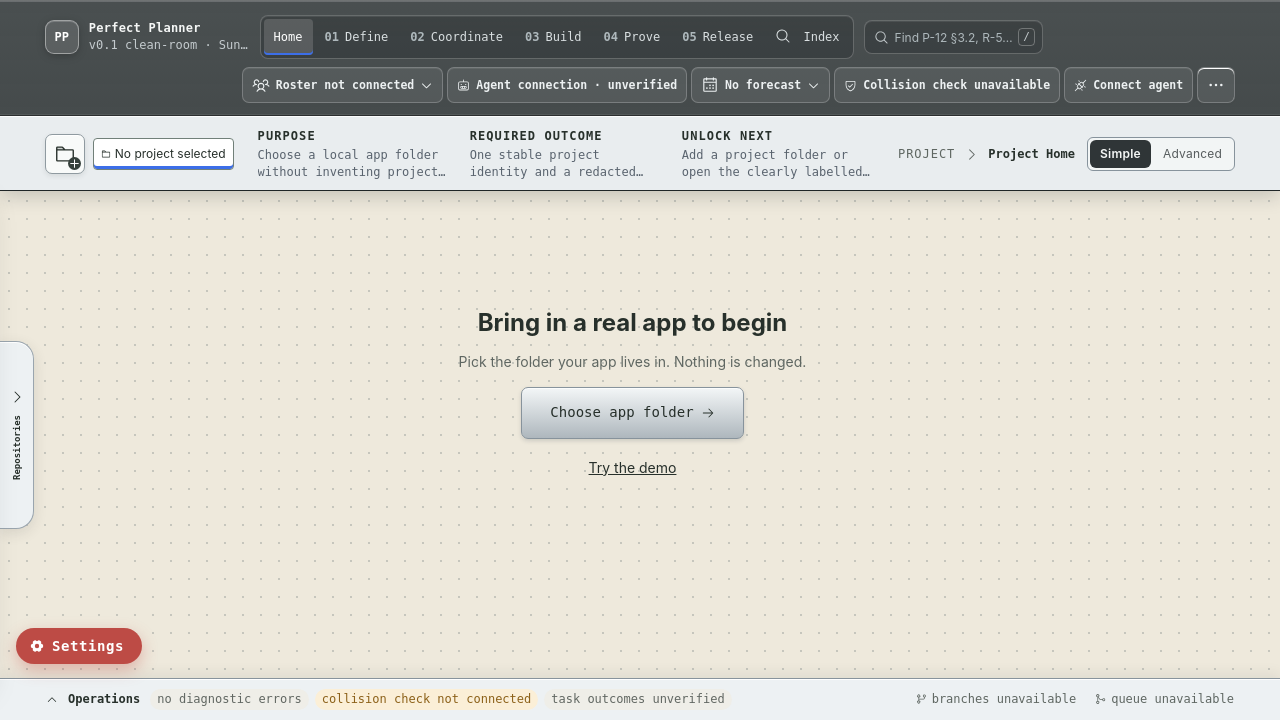
Scenario: Operations shows newest events first even when an older event arrives later
Click the button with class "ops-handle" at x=640, y=700, box [0, 679, 1279, 719]
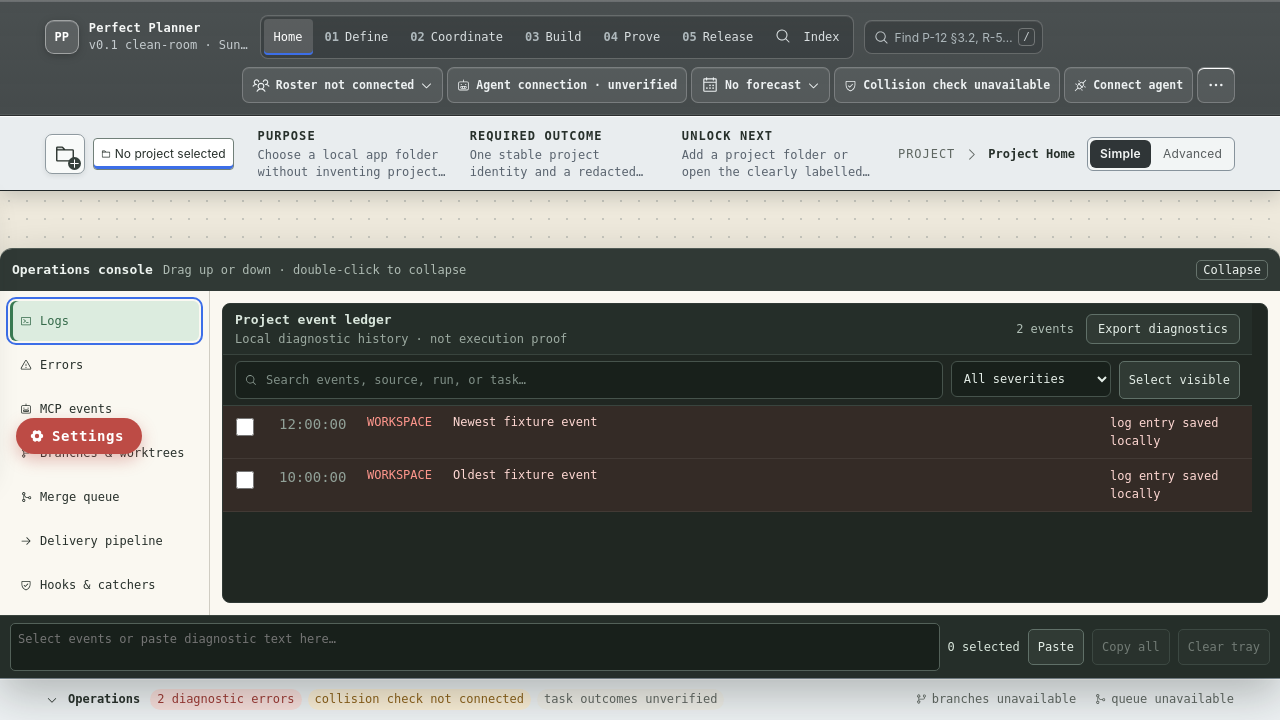
Now the text "Oldest fixture event" is shown, box [453, 468, 598, 482]
